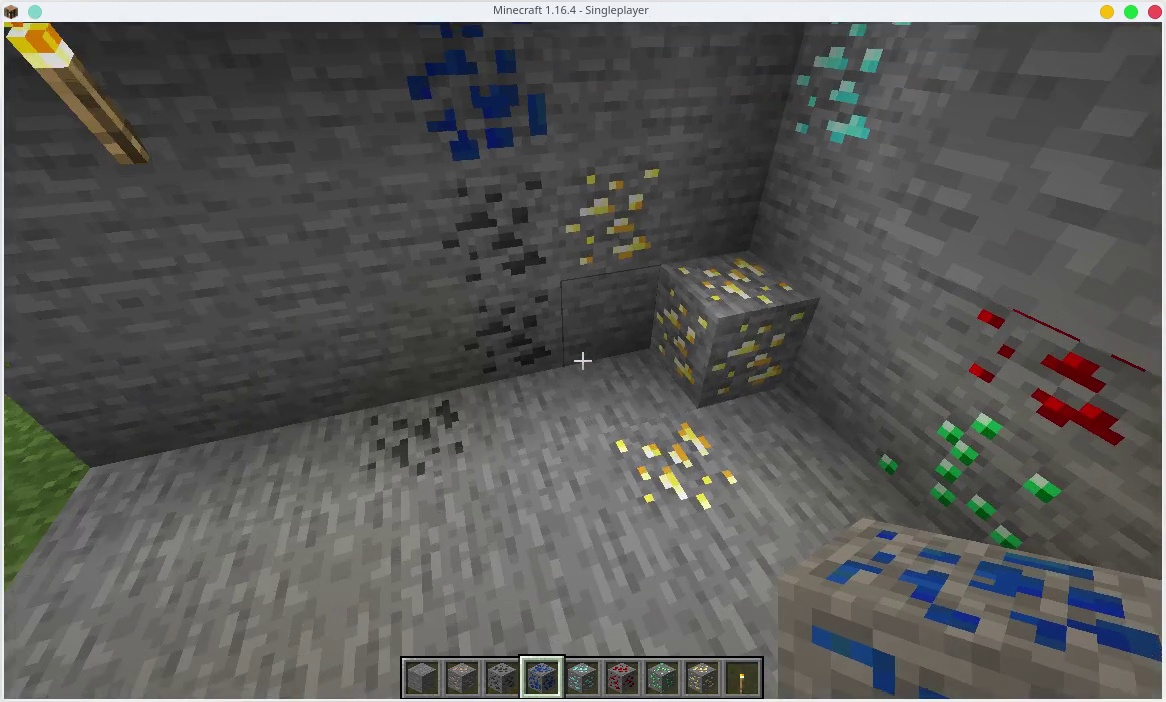gold: (650, 258, 803, 403), (610, 421, 744, 511), (556, 164, 646, 271), (687, 663, 718, 695)
